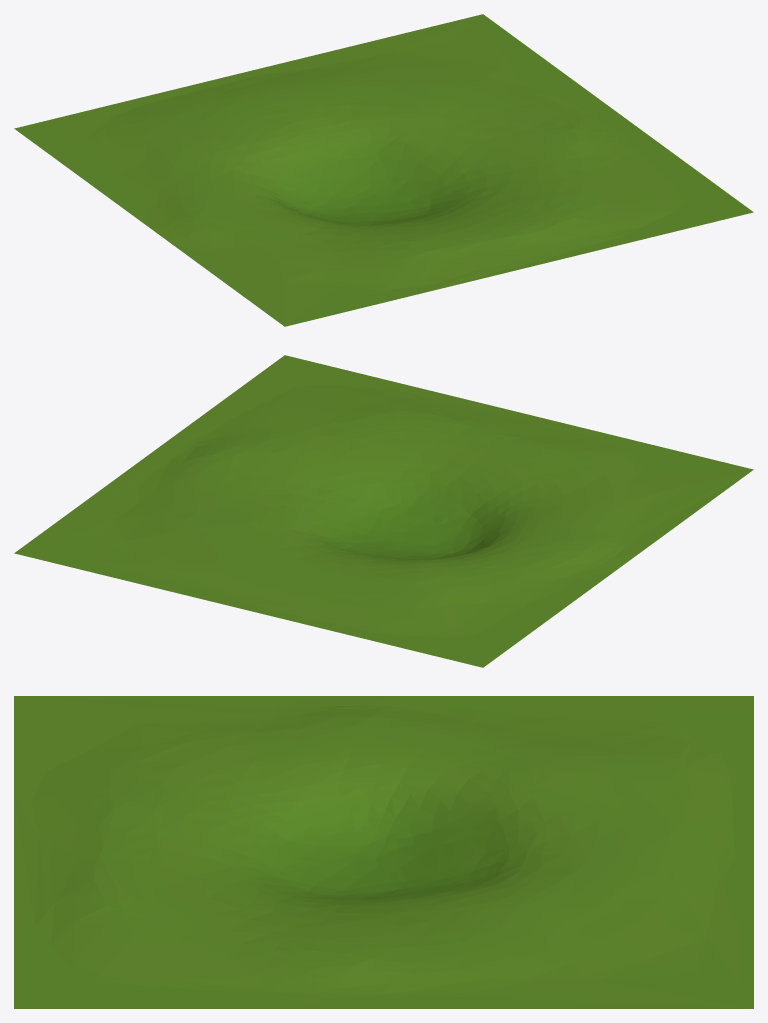
File: Terrain_10.fbx
The picture shows the model from 3 angles, top to bottom: view 1: azimuth 30°, elevation 25°; view 2: azimuth 150°, elevation 25°; view 3: azimuth 270°, elevation 25°; orthographic projection. The views are drawn at different scales.
Parts seen in each view (by area): view 1: Terrain_10; view 2: Terrain_10; view 3: Terrain_10.
Boxes of the visible parts, <box> form: Terrain_10: <box>14,14,753,326</box>; Terrain_10: <box>14,355,753,667</box>; Terrain_10: <box>14,696,753,1008</box>.
Size of the model in its own units: 12800 by 848 by 12800.
